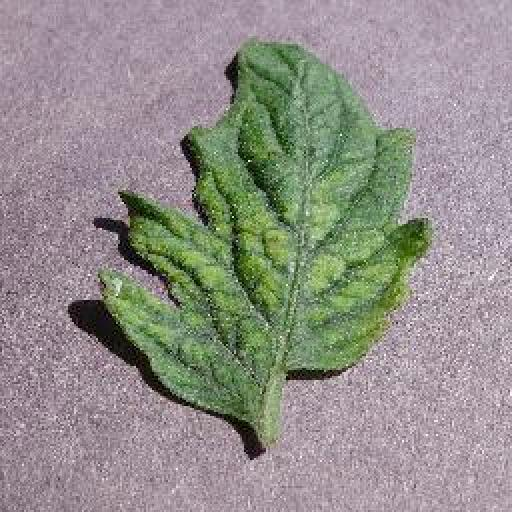disease_tomato: (97, 37, 435, 423)
